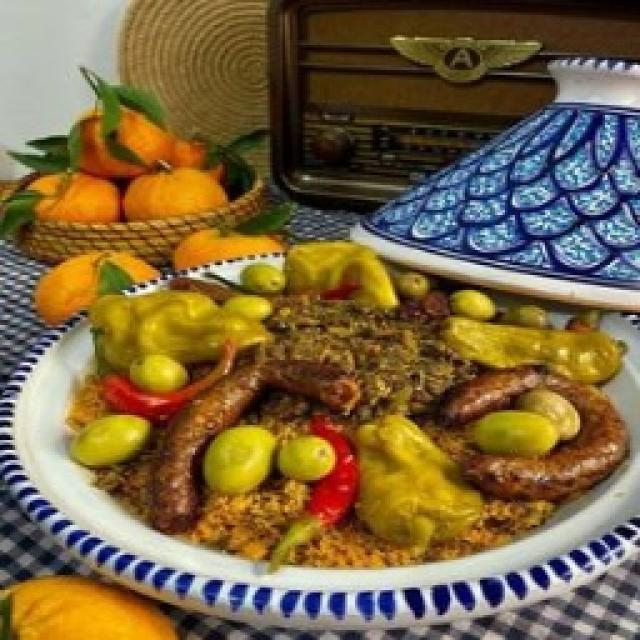Couscous: (69, 242, 629, 571)
